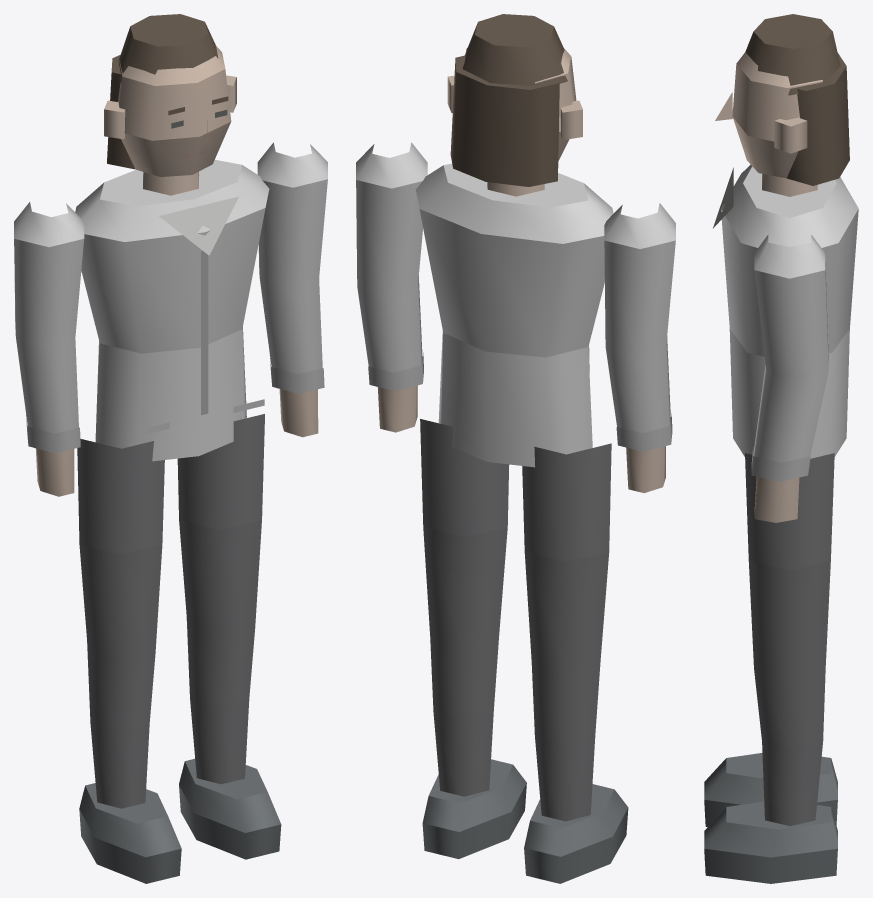
File: walker_1.glb
3 renders of one model, left to right at view 1: azimuth 30°, elevation 25°; view 2: azimuth 150°, elevation 25°; view 3: azimuth 270°, elevation 25°, orthographic.
Parts seen in each view (by area): view 1: walker_1; view 2: walker_1; view 3: walker_1.
Boxes of the visible parts, x1,y1,x2,y2 form: walker_1: (14,14,327,883); walker_1: (356,14,675,883); walker_1: (704,14,858,883).
Bounding box in the file's own units: 0.662 × 1.62 × 0.2802.
